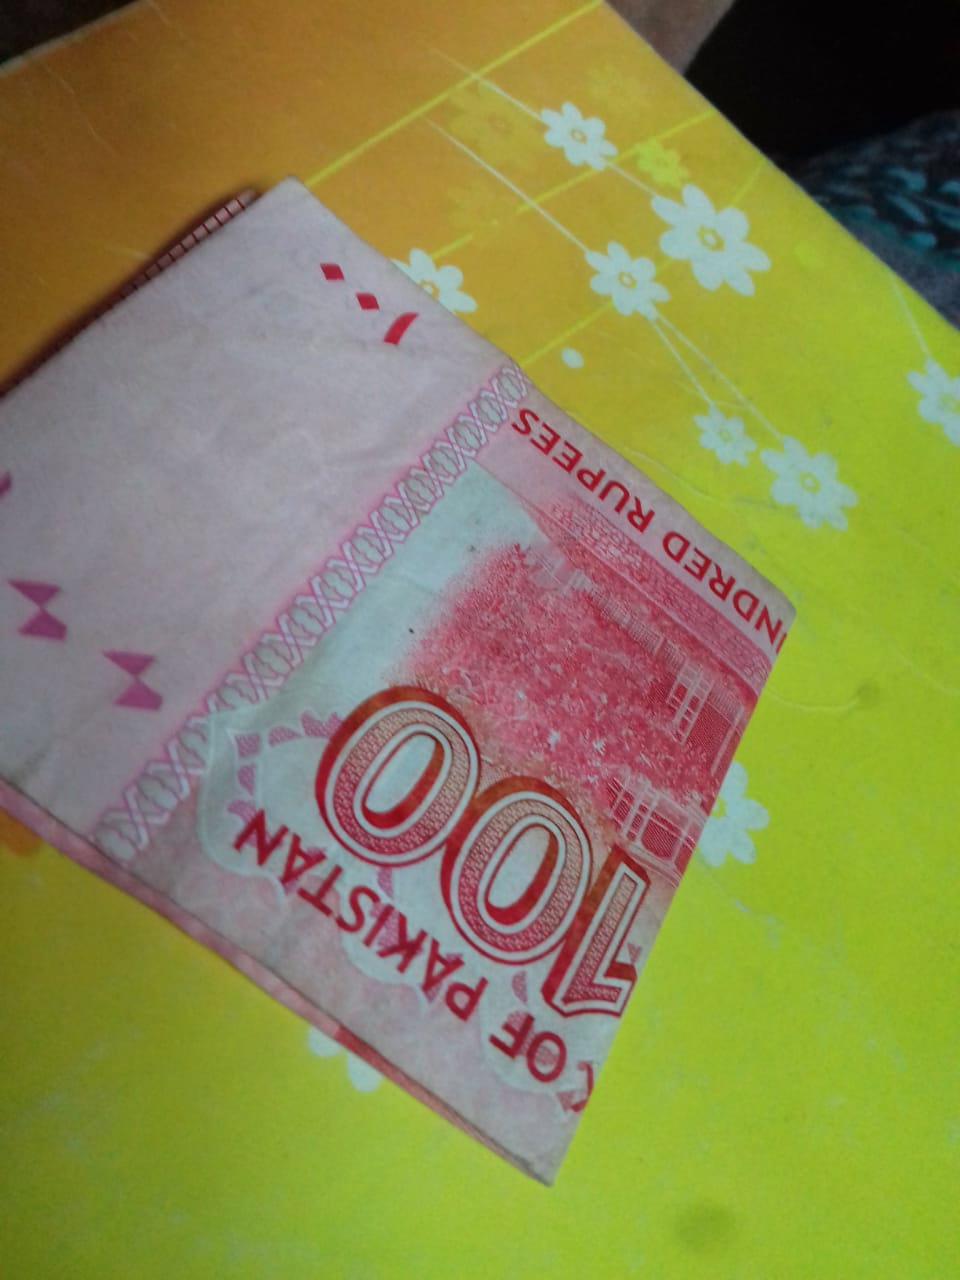100 rupee: (0, 180, 853, 1174)
